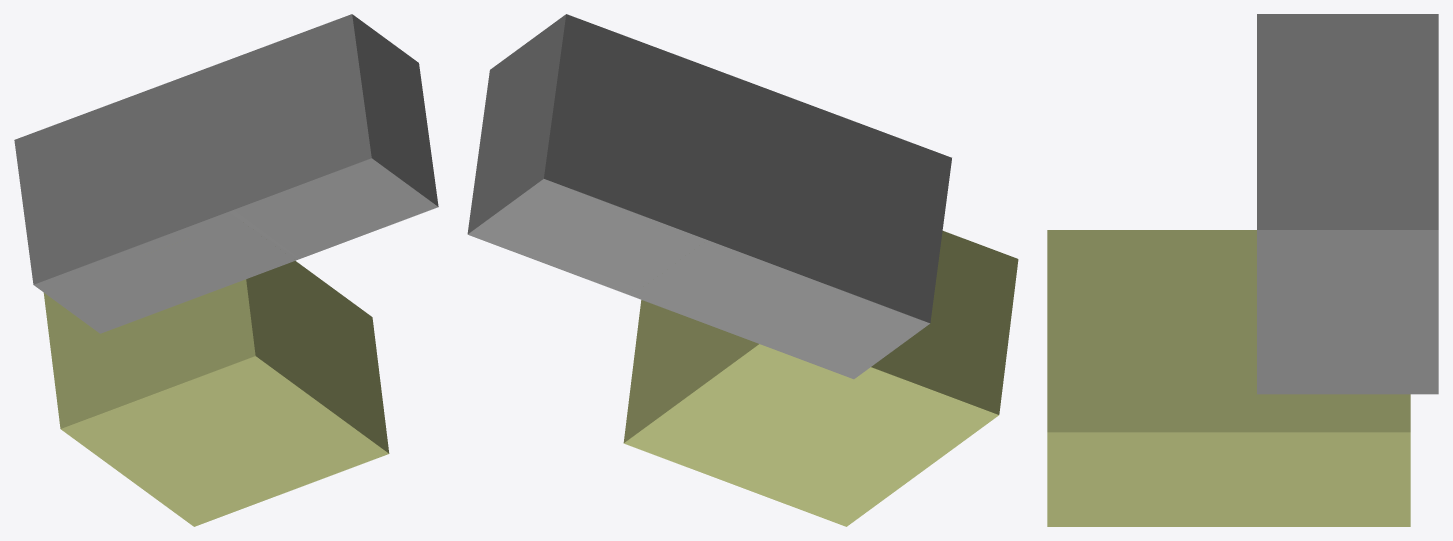
3 renders of one model, left to right at view 1: azimuth 30°, elevation 25°; view 2: azimuth 150°, elevation 25°; view 3: azimuth 270°, elevation 25°, orthographic. The views are drawn at different scales.
Parts seen in each view (by area): view 1: 0_1_2_0_0_2_2_0_2_0_1; view 2: 0_1_2_0_0_2_2_0_2_0_1; view 3: 0_1_2_0_0_2_2_0_2_0_1.
Part boxes in pixels (left/top/right/bottom): 0_1_2_0_0_2_2_0_2_0_1: left=14, top=14, right=438, bottom=526; 0_1_2_0_0_2_2_0_2_0_1: left=467, top=14, right=1018, bottom=526; 0_1_2_0_0_2_2_0_2_0_1: left=1047, top=14, right=1438, bottom=526.
Size of the model in its own units: 9.26 by 8.27 by 6.46.
